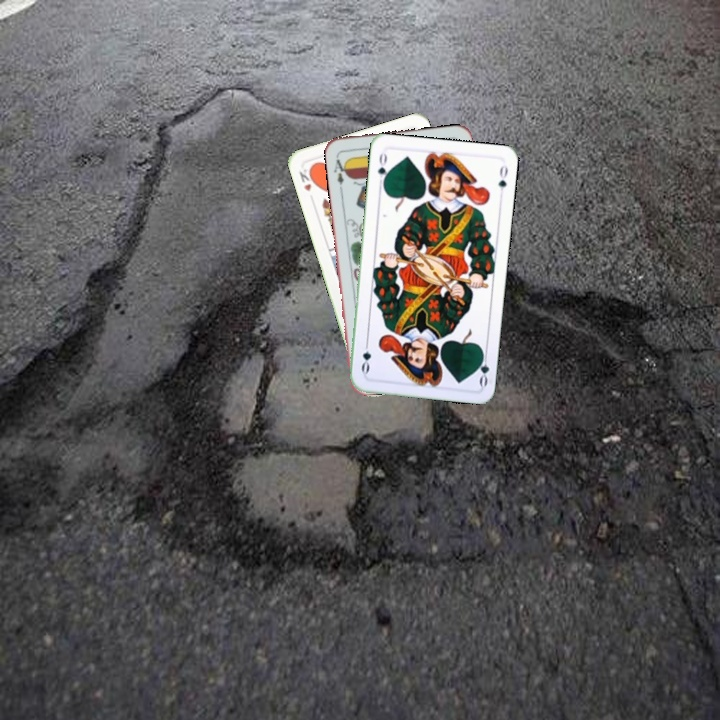EA: (330, 152, 350, 192)
GO: (473, 347, 492, 388), (374, 149, 391, 189)
HK: (295, 162, 318, 194)
